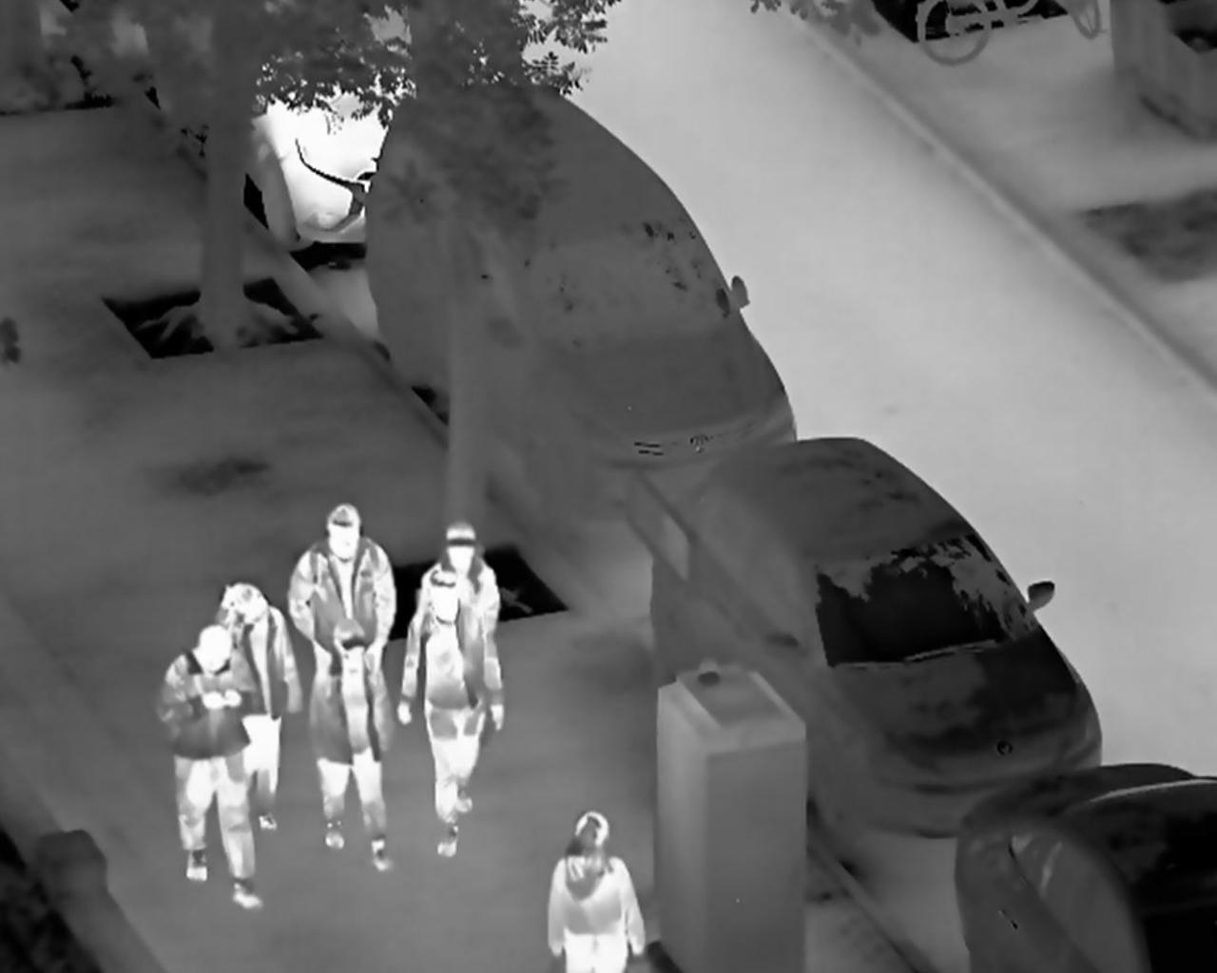person: (156, 623, 267, 912), (397, 570, 503, 862), (304, 620, 399, 878), (210, 578, 306, 832), (285, 503, 395, 698), (541, 808, 648, 973), (418, 512, 507, 669)
